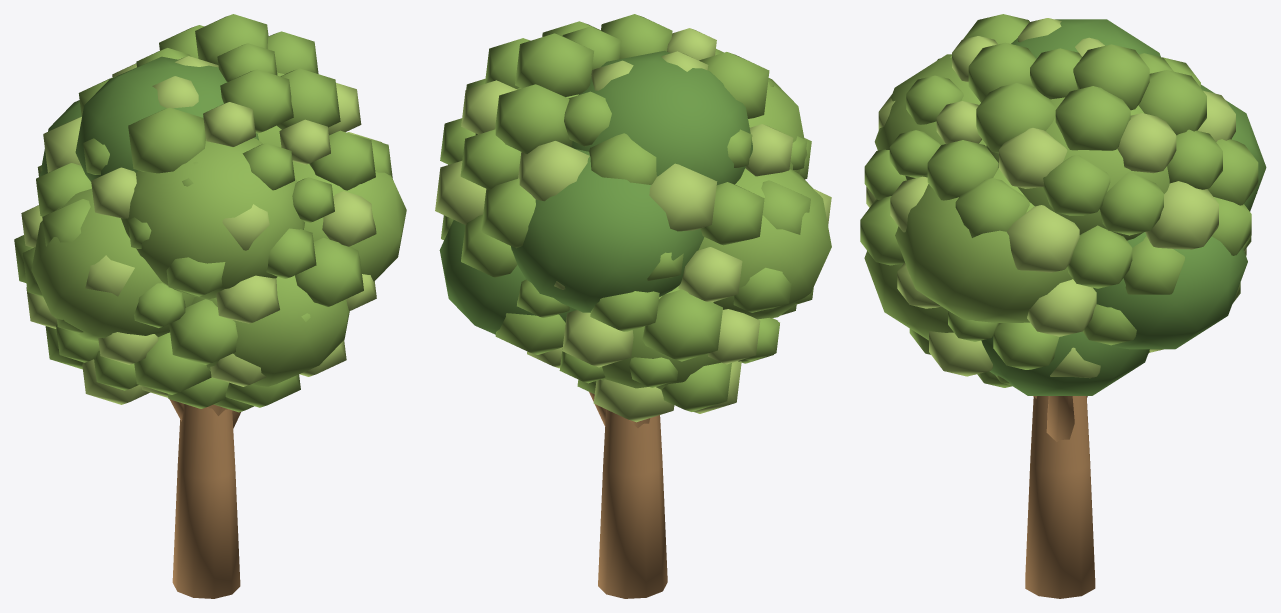
Rendered from prop_tree_b.glb.
3 views of the same model, side by side, from view 1: azimuth 30°, elevation 25°; view 2: azimuth 150°, elevation 25°; view 3: azimuth 270°, elevation 25° (orthographic). The views are drawn at different scales.
Parts seen in each view (by area): view 1: structure.010; view 2: structure.010; view 3: structure.010.
Boxes of the visible parts, box(x1,y1,x2,y2) form: structure.010: box(14, 14, 406, 598); structure.010: box(435, 14, 831, 598); structure.010: box(860, 14, 1266, 598).
Size of the model in its own units: 2.6 by 4 by 2.6.
